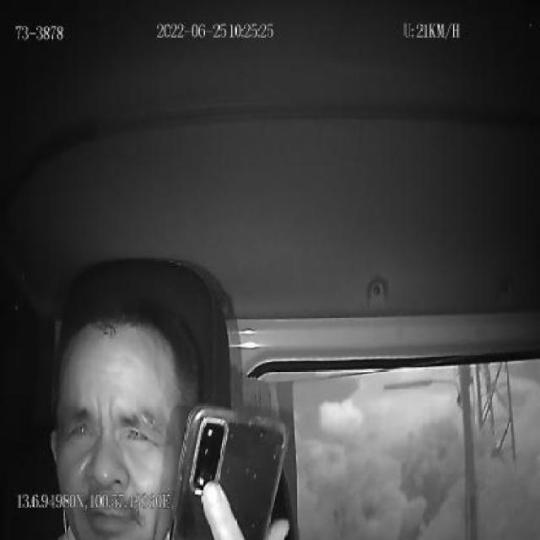phone: (171, 402, 289, 540)
